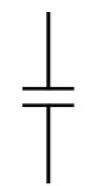Capacitor: (17, 67, 81, 127)
